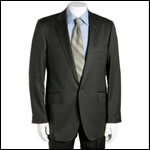F_M_suit jacket: (28, 10, 123, 135)
F_tie: (69, 17, 86, 79)
